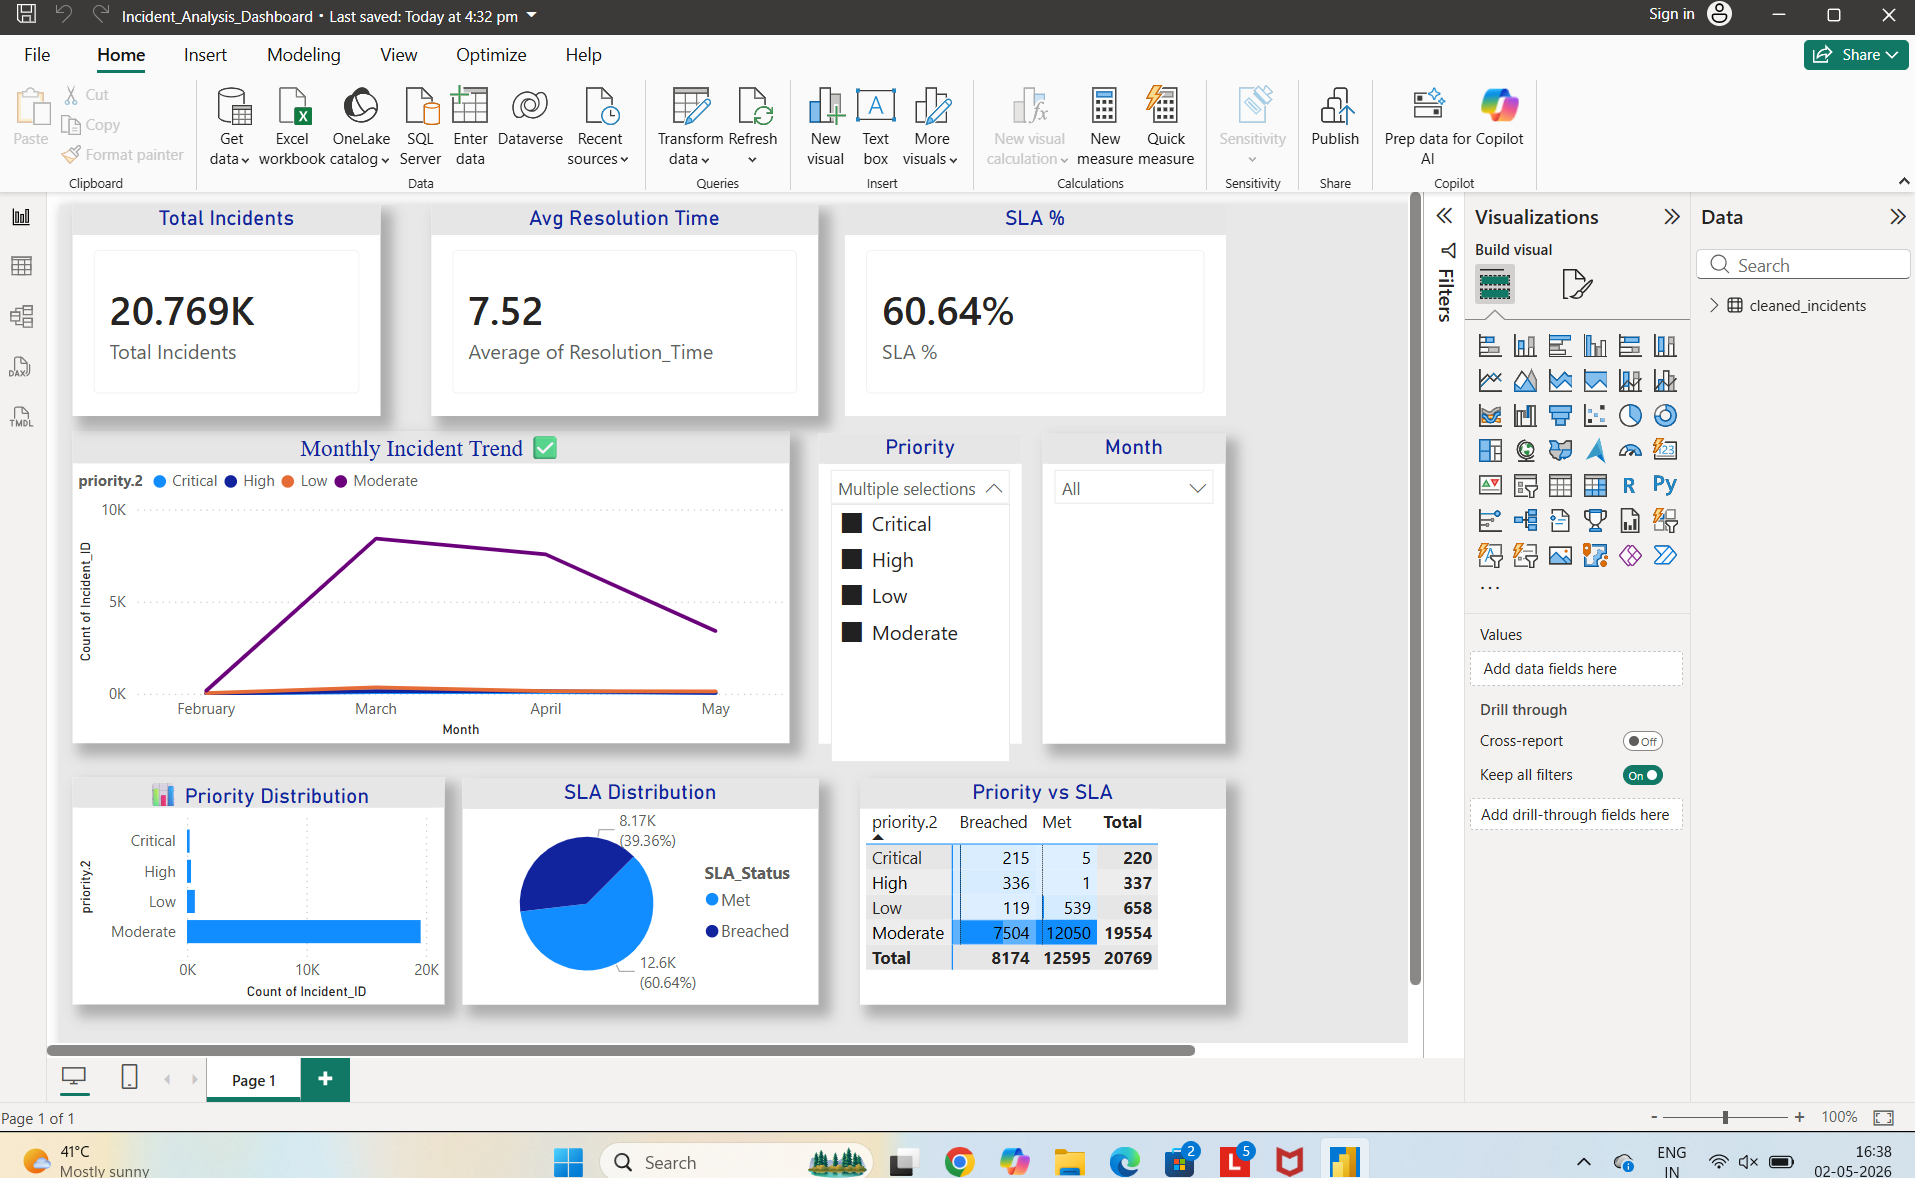

The page's visual inventory and layout, read from the dashboard file:
{"tool":"powerbi","page":{"name":"Page 1","canvas":[1280,720],"ordinal":0},"visuals":[{"type":"lineChart","title":"Monthly Incident Trend ✅","fields":{"Y":["Count(cleaned_incidents.Incident_ID)"],"Category":["cleaned_incidents.Created_Date.Variation.Date Hierarchy.Month"],"Series":["cleaned_incidents.priority.2"]},"box":[10,181,574,250],"z":0},{"type":"cardVisual","title":"Total Incidents","fields":{"Data":["CountNonNull(cleaned_incidents.Incident_ID)"]},"box":[10.5,0,246.5,168.6],"z":1000},{"type":"cardVisual","title":"Avg Resolution Time","fields":{"Data":["Avg(cleaned_incidents.Resolution_Time)"]},"box":[296.5,0,310.5,168.6],"z":2000},{"type":"cardVisual","title":"SLA %","fields":{"Data":["cleaned_incidents.SLA %"]},"box":[627.9,0,304.7,168.6],"z":3000},{"type":"barChart","title":"📊 Priority Distribution","fields":{"Y":["CountNonNull(cleaned_incidents.Incident_ID)"],"Category":["cleaned_incidents.priority.2"]},"box":[10.5,458.1,297.7,181.4],"z":3001},{"type":"pieChart","title":"SLA Distribution","fields":{"Category":["cleaned_incidents.SLA_Status"],"Y":["CountNonNull(cleaned_incidents.Incident_ID)"]},"box":[322,459,285,181],"z":3002},{"type":"pivotTable","title":"Priority vs SLA","fields":{"Rows":["cleaned_incidents.priority.2"],"Columns":["cleaned_incidents.SLA_Status"],"Values":["CountNonNull(cleaned_incidents.Incident_ID)"]},"box":[640,459,293,181],"z":3003},{"type":"slicer","title":"Priority","fields":{"Values":["cleaned_incidents.priority.2"]},"box":[607,182.6,162.8,248.8],"z":3004},{"type":"slicer","title":"Month","fields":{"Values":["cleaned_incidents.Created_Date.Variation.Date Hierarchy.Month"]},"box":[786,182.6,146.5,248.8],"z":3005}]}

Visuals, with their boxes on the page's 1280x720 design canvas (x1, y1, x2, y2). These are canvas units, not pixel positions in the 1915x1178 screenshot, which may show the page scaled, cropped or inside an application window:
"Monthly Incident Trend ✅" lineChart: [left=10, top=181, right=584, bottom=431]
"Total Incidents" cardVisual: [left=10, top=0, right=257, bottom=169]
"Avg Resolution Time" cardVisual: [left=296, top=0, right=607, bottom=169]
"SLA %" cardVisual: [left=628, top=0, right=933, bottom=169]
"📊 Priority Distribution" barChart: [left=10, top=458, right=308, bottom=640]
"SLA Distribution" pieChart: [left=322, top=459, right=607, bottom=640]
"Priority vs SLA" pivotTable: [left=640, top=459, right=933, bottom=640]
"Priority" slicer: [left=607, top=183, right=770, bottom=431]
"Month" slicer: [left=786, top=183, right=932, bottom=431]
